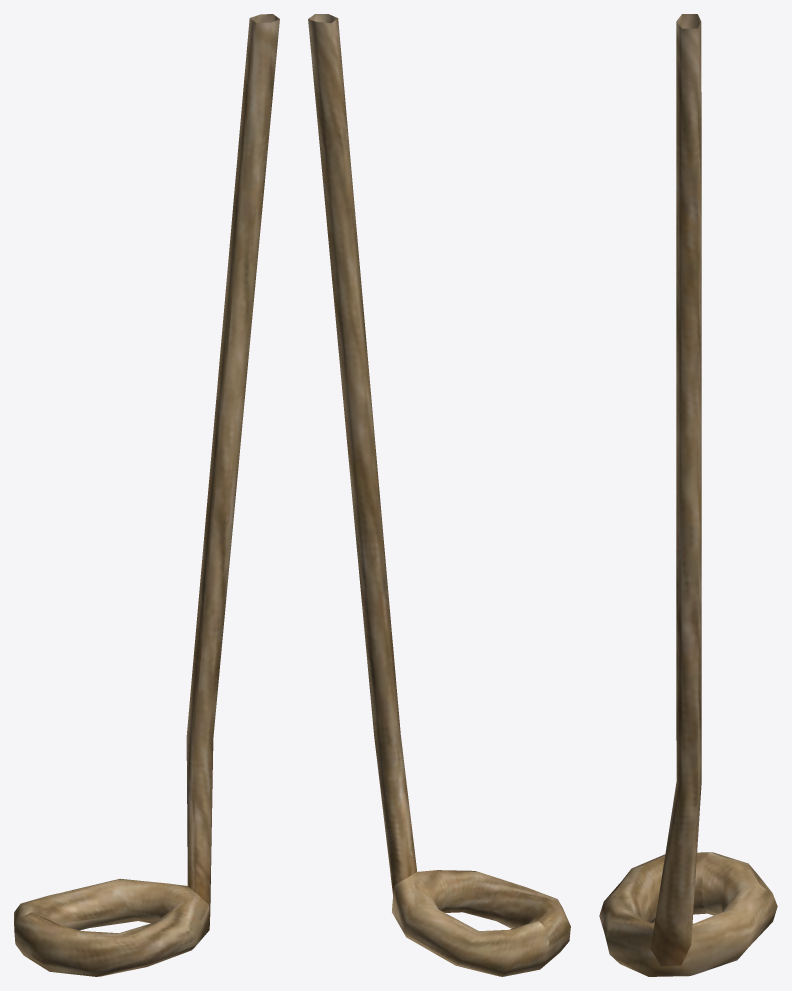
File: SM_Dolls_Barbie_0_rope.fbx
The picture shows the model from 3 angles, left to right: view 1: azimuth 30°, elevation 25°; view 2: azimuth 150°, elevation 25°; view 3: azimuth 270°, elevation 25°; orthographic projection. The views are drawn at different scales.
Visible parts, largest first — view 1: SM_Dolls_Barbie_0_rope; view 2: SM_Dolls_Barbie_0_rope; view 3: SM_Dolls_Barbie_0_rope.
Part boxes in pixels (x1=…): SM_Dolls_Barbie_0_rope: x1=14, y1=14, x2=279, y2=976; SM_Dolls_Barbie_0_rope: x1=308, y1=14, x2=570, y2=976; SM_Dolls_Barbie_0_rope: x1=599, y1=14, x2=777, y2=976.
Size of the model in its own units: 9.56 by 5.21 by 32.64.
Materials: 1 (1 with a texture image).
